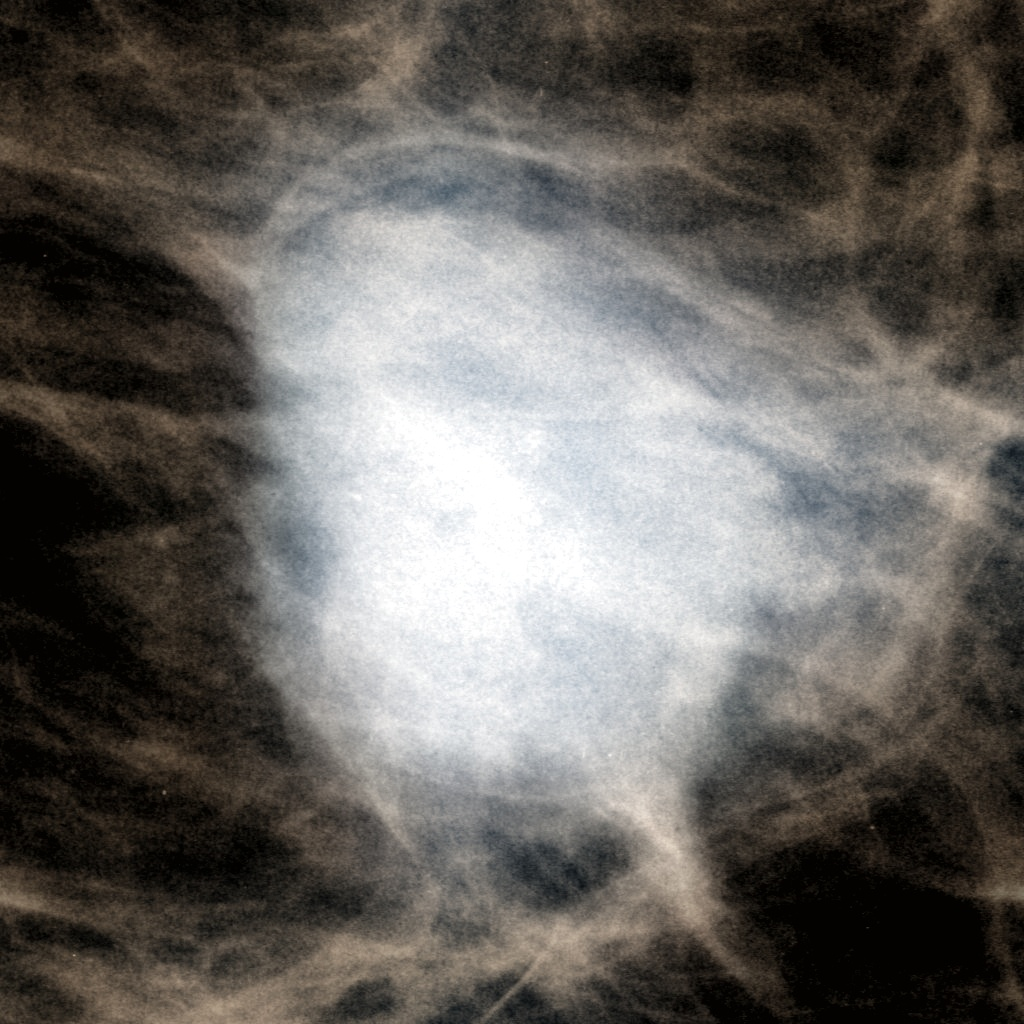tumor: (234, 229, 790, 795)
